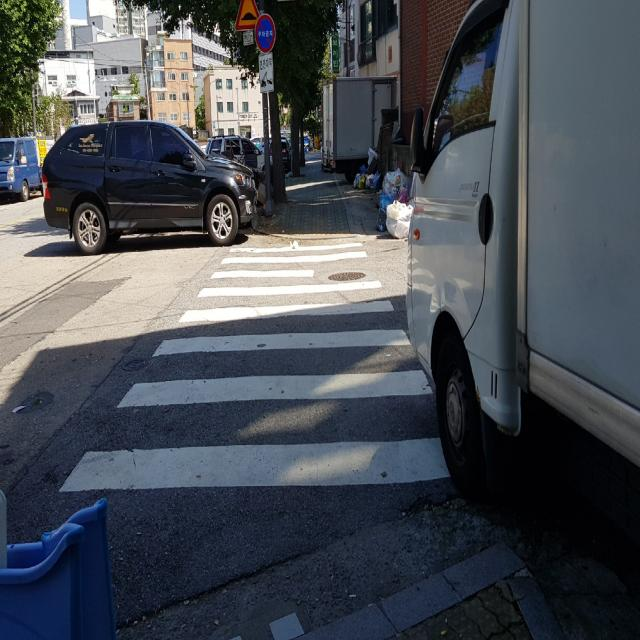횡단보도: (59, 242, 451, 492)
